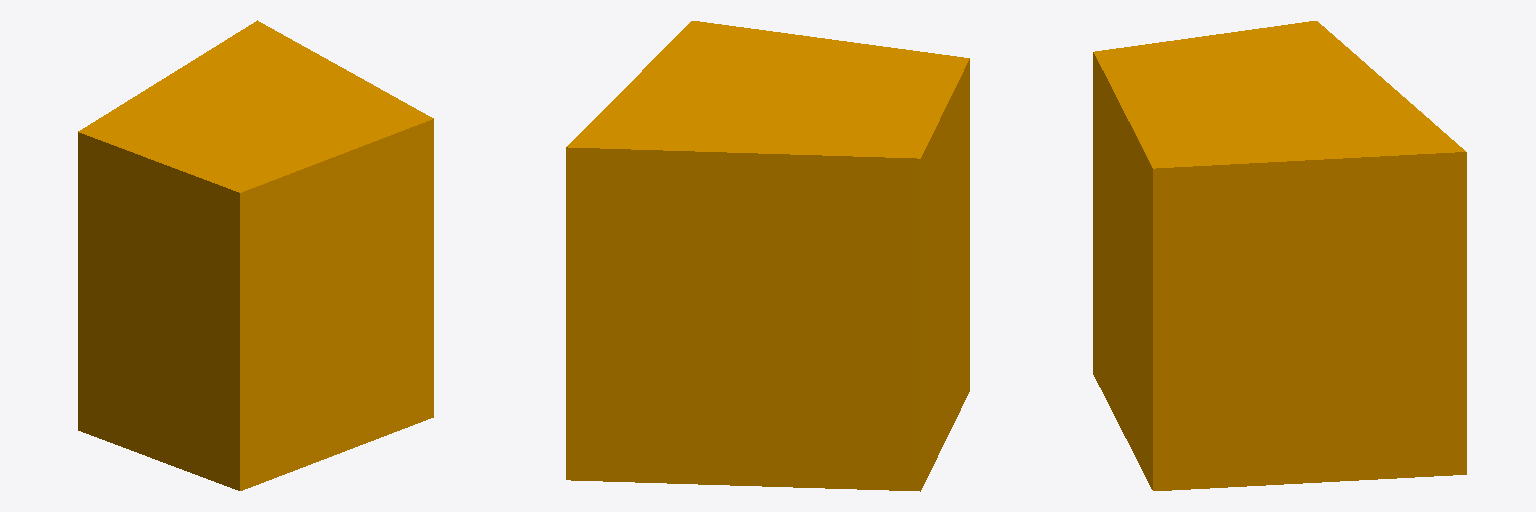
robot.urdf — object:
<?xml version="1.0"?>
<robot name="object">
  <link name="object">
    <visual>
      <origin xyz="0 0 0"/>
      <geometry>
        <mesh filename="meshes/generated/col_005.obj" scale="0.03 0.03 0.03"/>
      </geometry>
    </visual>
    <collision>
      <origin xyz="0 0 0"/>
      <geometry>
        <mesh filename="meshes/generated/col_005.obj" scale="0.03 0.03 0.03"/>
      </geometry>
    </collision>
    <inertial>
      <density value="1000.0"/>
    </inertial>
  </link>
</robot>

--- Render facts (derived) ---
Views: 3 orthographic renders of the robot side by side, from view 1: azimuth 30°, elevation 25°; view 2: azimuth 150°, elevation 25°; view 3: azimuth 270°, elevation 25°.
Robot: object — 1 links, 0 joints (none); root link object; default pose: all joints at 0.
Visible links, largest first — view 1: object; view 2: object; view 3: object.
Boxes of the visible links, x1=… form: object: x1=78, y1=20, x2=433, y2=490; object: x1=566, y1=21, x2=969, y2=491; object: x1=1093, y1=21, x2=1466, y2=490.
Size in the robot's own frame: 0.059 by 0.0628 by 0.06 metres.
1 mesh visuals loaded from 1 distinct referenced files (1 OBJ).
